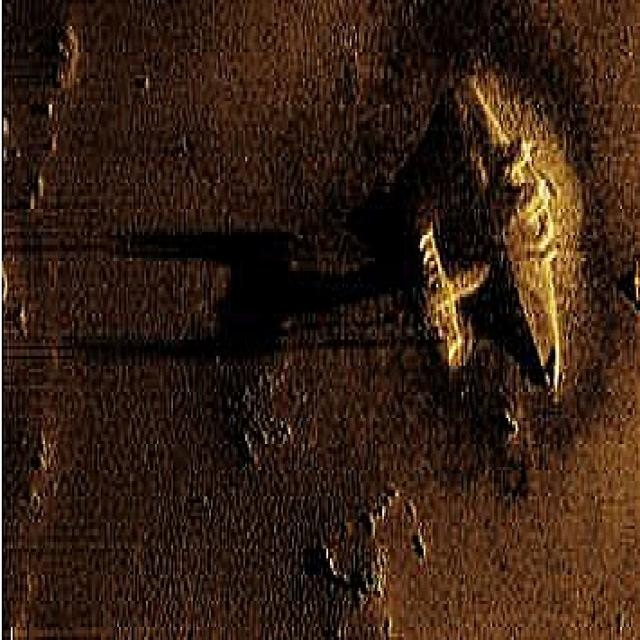plane: (409, 59, 577, 402)
